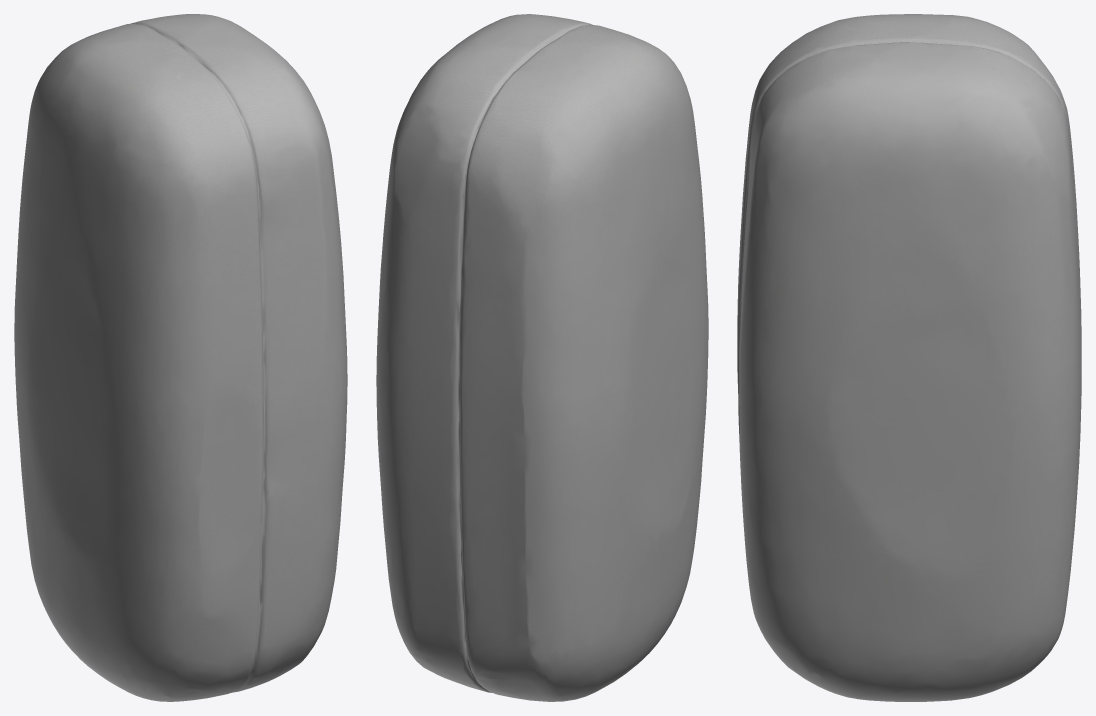
The model's file is shell.glb.
3 views of the same model, side by side, from view 1: azimuth 30°, elevation 25°; view 2: azimuth 150°, elevation 25°; view 3: azimuth 270°, elevation 25° (orthographic).
Parts seen in each view (by area): view 1: tripo_node_b320877a-7f60-4bf7-b2a7-8f20d617b870; view 2: tripo_node_b320877a-7f60-4bf7-b2a7-8f20d617b870; view 3: tripo_node_b320877a-7f60-4bf7-b2a7-8f20d617b870.
Boxes of the visible parts, x1=… form: tripo_node_b320877a-7f60-4bf7-b2a7-8f20d617b870: x1=14, y1=14, x2=347, y2=701; tripo_node_b320877a-7f60-4bf7-b2a7-8f20d617b870: x1=376, y1=14, x2=708, y2=701; tripo_node_b320877a-7f60-4bf7-b2a7-8f20d617b870: x1=737, y1=14, x2=1081, y2=701.
Size of the model in its own units: 0.0981 by 0.25 by 0.1228.
Materials: 1 (1 with a texture image).
